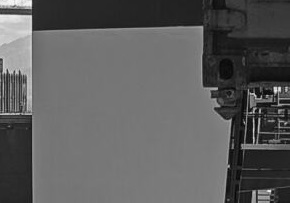Copy of Copy of Copy of Copy of Copy of twist_lock_2: (204, 81, 247, 124)
